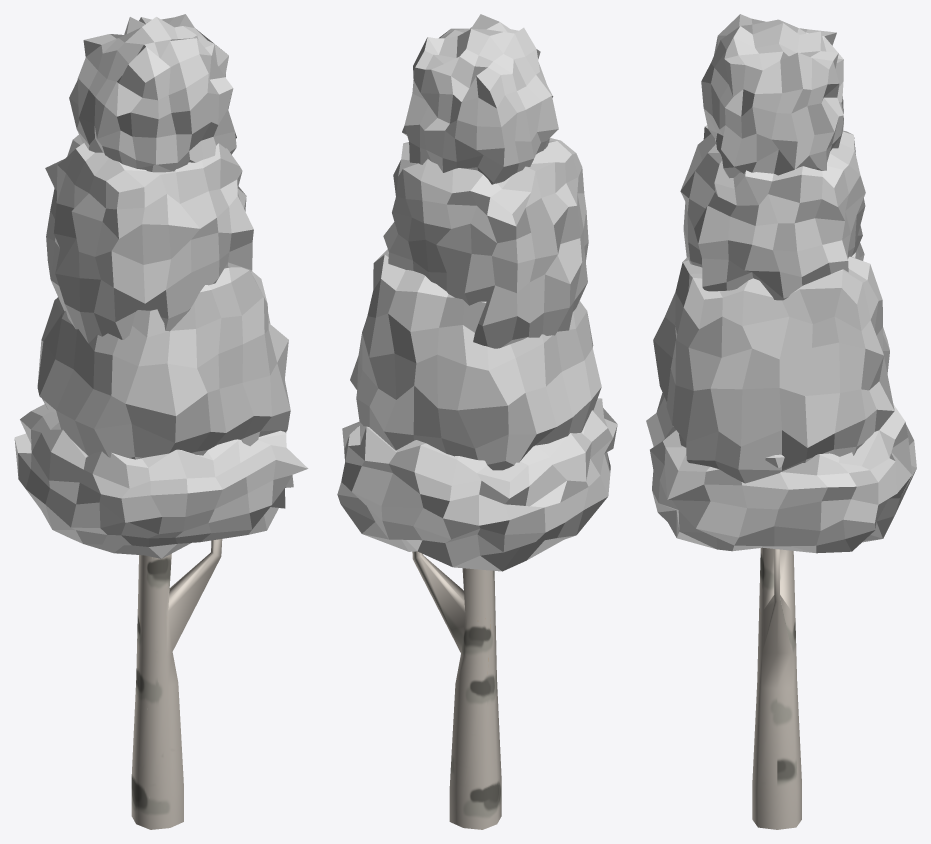
File: birch_resource2.fbx
The picture shows the model from 3 angles, left to right: view 1: azimuth 30°, elevation 25°; view 2: azimuth 150°, elevation 25°; view 3: azimuth 270°, elevation 25°; orthographic projection.
Visible parts, largest first — view 1: Foliage, Tree; view 2: Foliage, Tree; view 3: Foliage, Tree.
Boxes of the visible parts, bbox=[...] form: Foliage: bbox=[14, 14, 308, 558]; Tree: bbox=[131, 539, 222, 829]; Foliage: bbox=[337, 14, 617, 571]; Tree: bbox=[412, 551, 501, 829]; Foliage: bbox=[646, 14, 916, 553]; Tree: bbox=[752, 547, 801, 829].
Bounding box in the file's own units: 1340 × 4588 × 1413.
2 materials, 1 textured.
